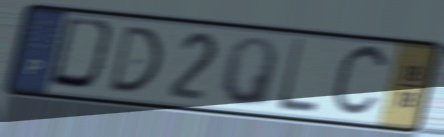2: (164, 31, 221, 104)
C: (327, 41, 393, 123)
D: (45, 14, 121, 96), (106, 23, 165, 95)
L: (273, 35, 320, 117)
Q: (217, 34, 280, 111)
